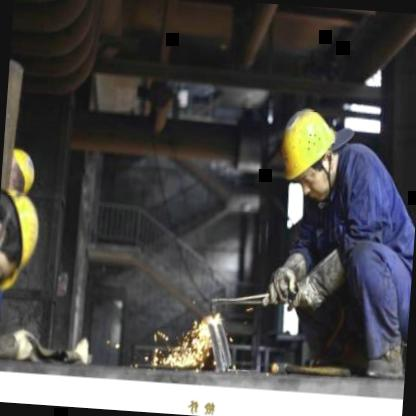helmet: (272, 100, 346, 202), (0, 189, 43, 297), (1, 145, 39, 201)
